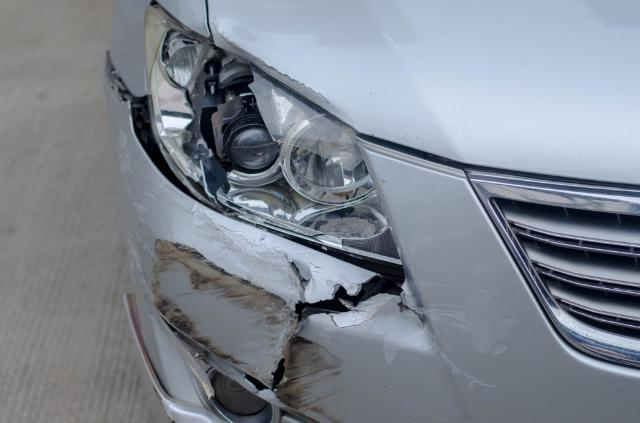crack: (297, 274, 427, 331), (242, 358, 287, 393), (289, 262, 311, 285)
dislocated part: (101, 50, 639, 423)
lamp broken: (141, 5, 404, 261)
scratch: (112, 130, 295, 383), (278, 318, 344, 423)
